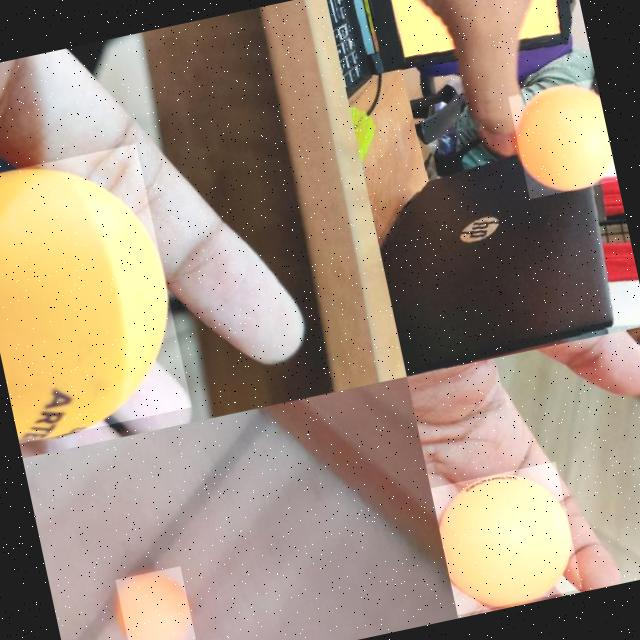ping-pong-ball: (0, 141, 192, 444), (432, 460, 582, 616), (507, 76, 618, 199), (113, 564, 195, 640)
